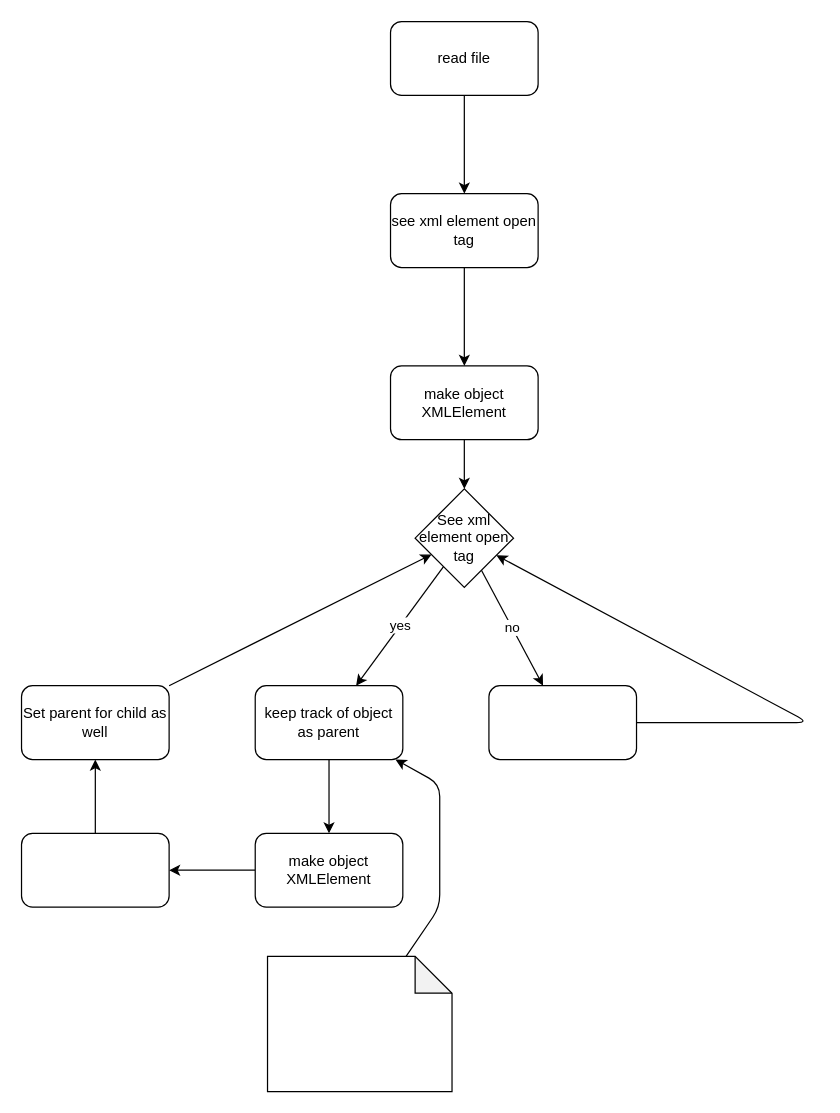
This 840x1113 diagram has some shape labels left out. The box of each missing label's shape, as (x1, y1, x2, y2) in pixels:
parents will be added to an ordered list: (266, 955, 452, 1092)
remove latest parent from list: (488, 684, 637, 760)
Set new object as child of latest tracked parent: (20, 832, 169, 907)
